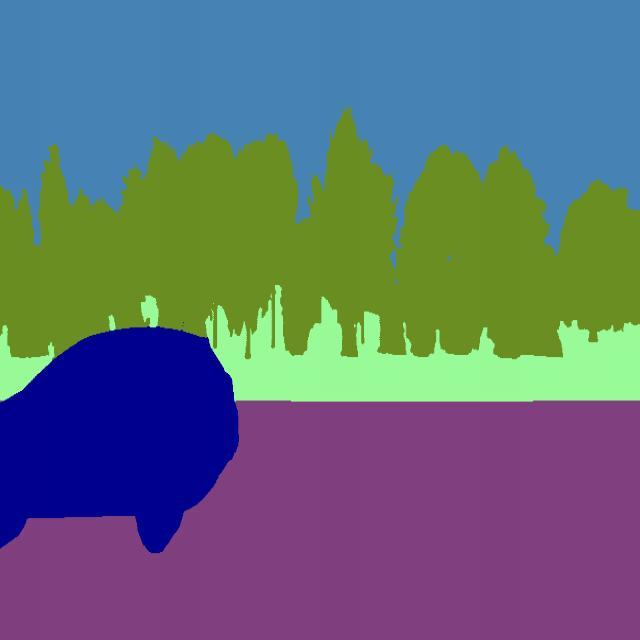unsafe: (0, 322, 243, 559)
